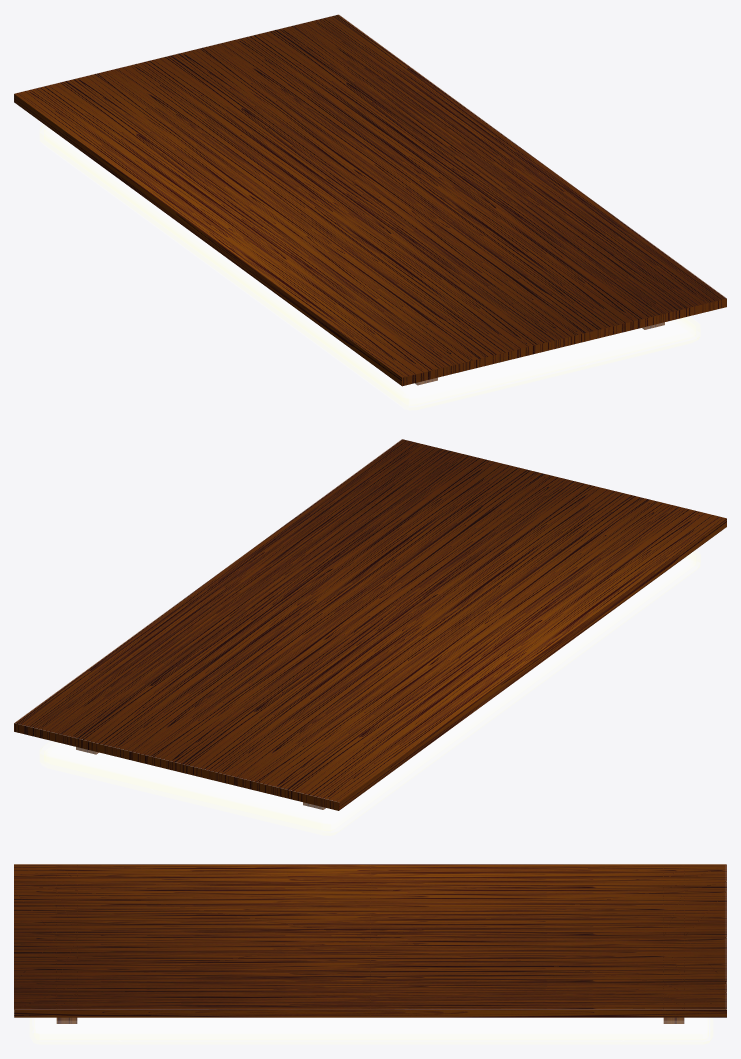
The model's file is lights.glb.
The picture shows the model from 3 angles, top to bottom: view 1: azimuth 30°, elevation 25°; view 2: azimuth 150°, elevation 25°; view 3: azimuth 270°, elevation 25°; orthographic projection. The views are drawn at different scales.
Parts seen in each view (by area): view 1: Base_1, Lamp_0; view 2: Base_1, Lamp_0; view 3: Base_1, Lamp_0.
Boxes of the visible parts, x1=… form: Base_1: x1=14, y1=14, x2=726, y2=386; Lamp_0: x1=40, y1=125, x2=700, y2=410; Base_1: x1=14, y1=439, x2=726, y2=810; Lamp_0: x1=40, y1=550, x2=700, y2=835; Base_1: x1=14, y1=864, x2=726, y2=1023; Lamp_0: x1=30, y1=1017, x2=712, y2=1044.
Bounding box in the file's own units: 0.7972 × 0.1117 × 1.65.
Materials: 2 (1 with a texture image).
